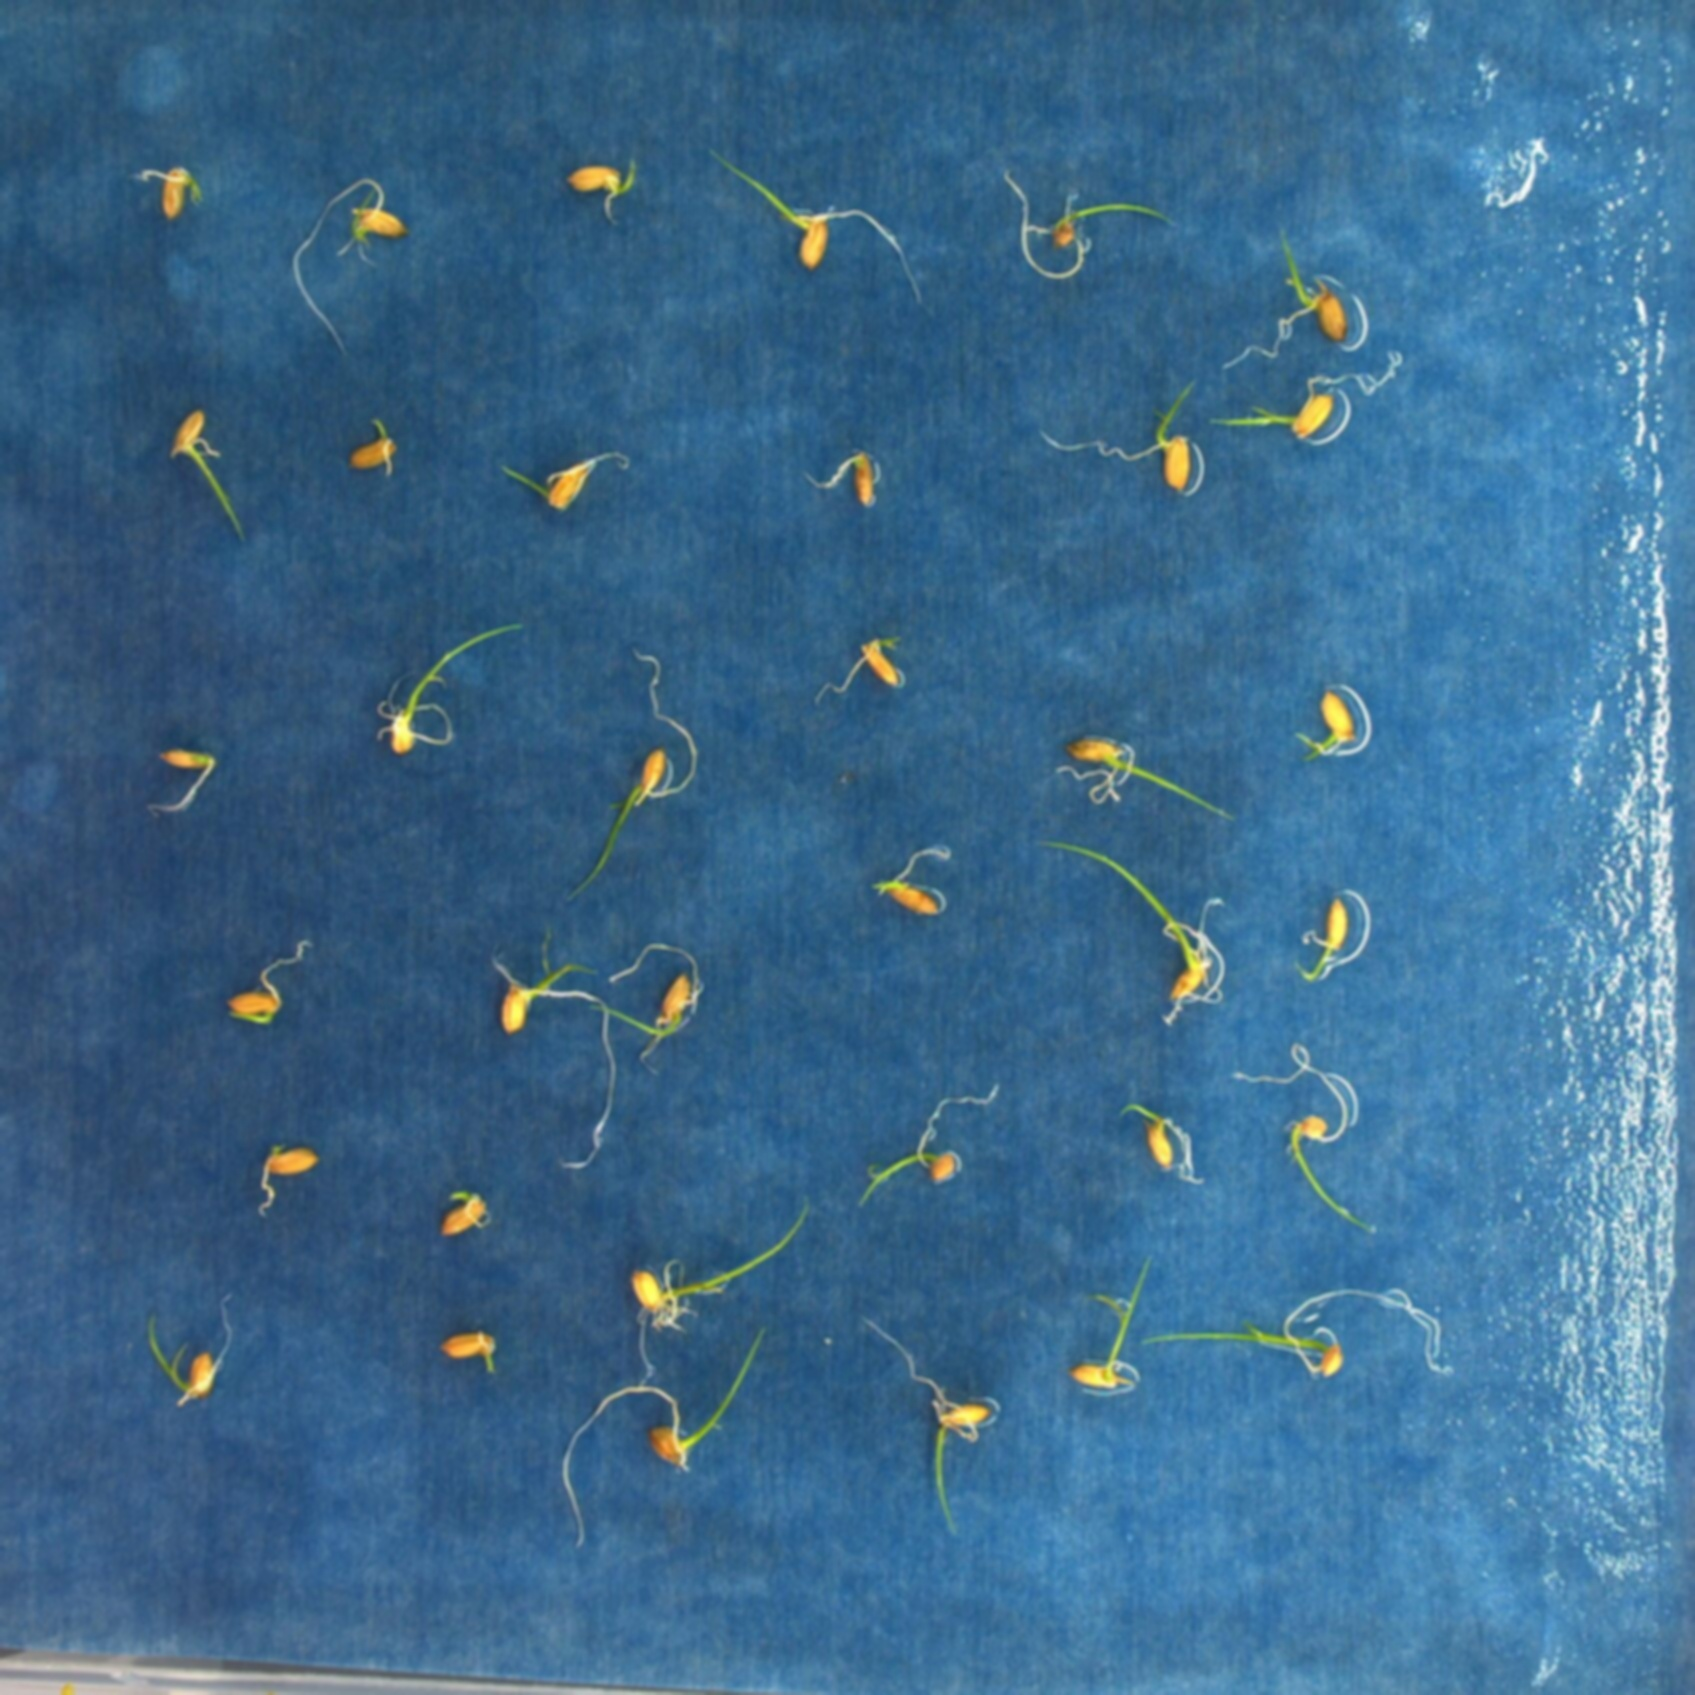not sprout: (818, 636, 900, 706), (140, 747, 217, 816), (255, 1142, 321, 1217), (801, 449, 879, 506), (341, 418, 393, 480), (432, 1330, 501, 1372), (433, 1191, 494, 1232)
sprout: (563, 1329, 765, 1544), (626, 1195, 812, 1385), (567, 646, 698, 903), (481, 920, 615, 1175), (712, 151, 922, 304), (1048, 840, 1220, 1021), (858, 1315, 989, 1541), (1232, 1042, 1381, 1239), (1139, 1285, 1454, 1378), (289, 172, 407, 357), (1003, 168, 1177, 279), (379, 619, 523, 751), (1217, 224, 1346, 369), (1037, 380, 1197, 494), (860, 1080, 997, 1206), (1055, 737, 1243, 826), (1208, 354, 1403, 438), (1066, 1256, 1153, 1392), (605, 938, 702, 1059), (163, 411, 247, 543), (146, 1291, 234, 1408), (498, 447, 629, 515), (220, 931, 307, 1023), (1119, 1107, 1205, 1187), (868, 846, 951, 917), (1288, 694, 1358, 765), (556, 158, 636, 219), (1298, 896, 1347, 983), (144, 161, 203, 219)
